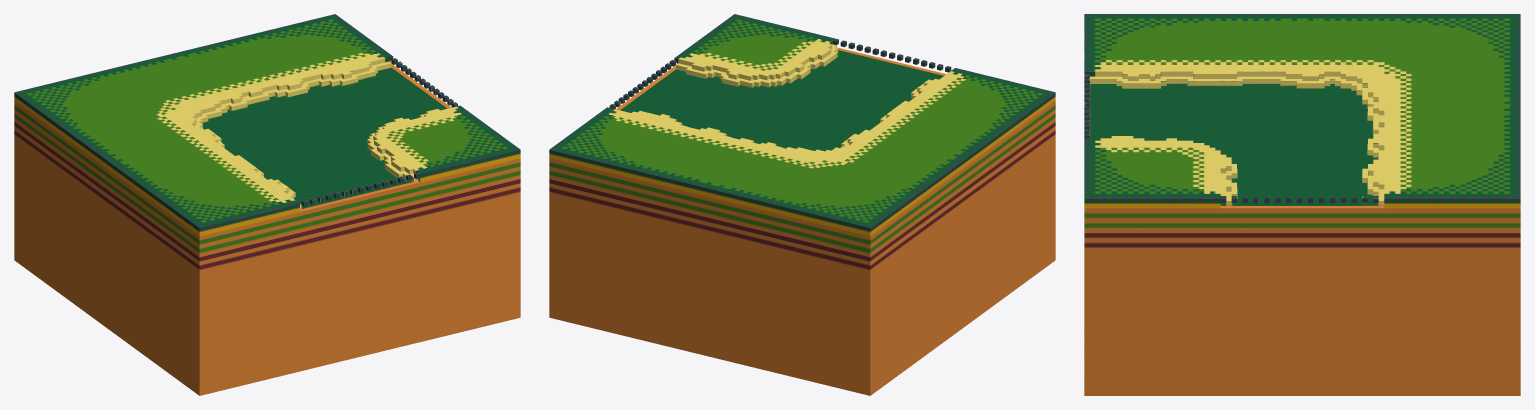
The model's file is river_2_tile.glb.
3 renders of one model, left to right at view 1: azimuth 30°, elevation 25°; view 2: azimuth 150°, elevation 25°; view 3: azimuth 270°, elevation 25°, orthographic. The views are drawn at different scales.
Parts seen in each view (by area): view 1: river_2_tile; view 2: river_2_tile; view 3: river_2_tile.
Boxes of the visible parts, x1,y1,x2,y2 form: river_2_tile: [14, 14, 520, 395]; river_2_tile: [549, 14, 1055, 395]; river_2_tile: [1084, 14, 1520, 395].
Size of the model in its own units: 8 by 4 by 8.
Materials: 1 (1 with a texture image).
